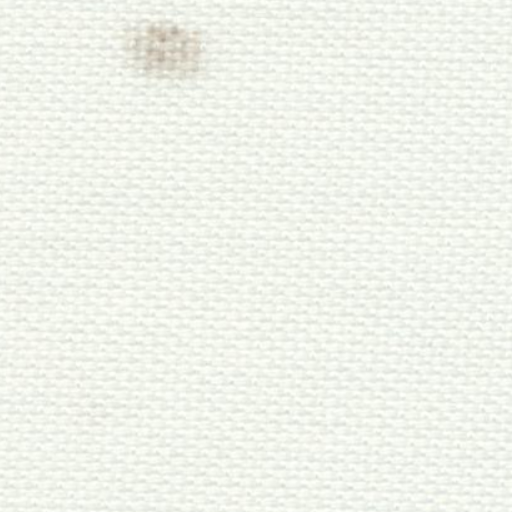WuZi: (103, 8, 218, 88)
